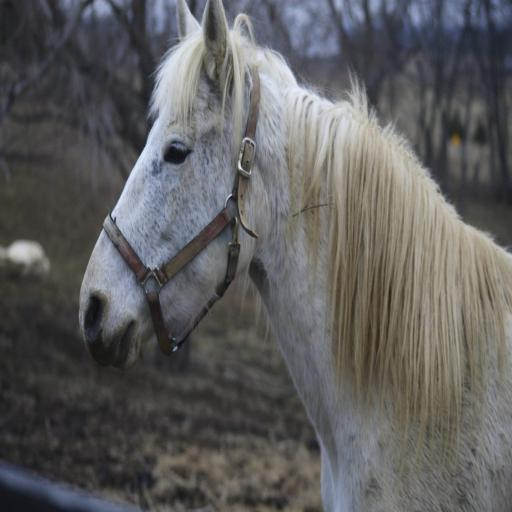horse: (76, 0, 512, 512)
